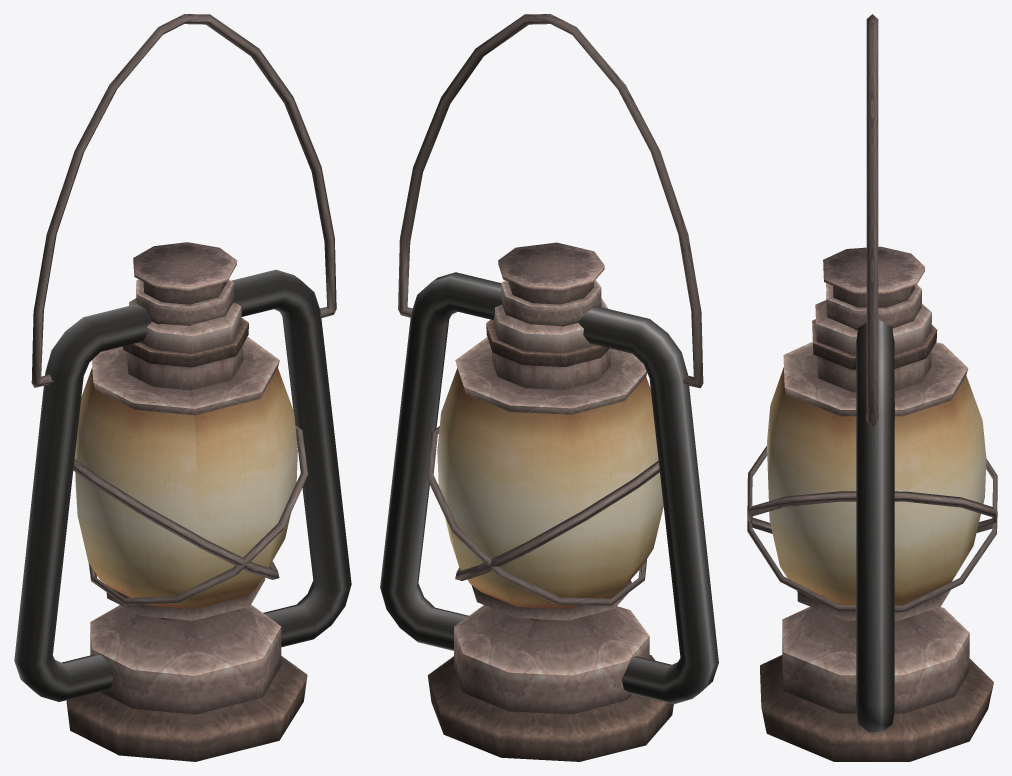
File: Rustic Lantern.FBX
The picture shows the model from 3 angles, left to right: view 1: azimuth 30°, elevation 25°; view 2: azimuth 150°, elevation 25°; view 3: azimuth 270°, elevation 25°; orthographic projection.
Visible parts, largest first — view 1: Rustic Lantern; view 2: Rustic Lantern; view 3: Rustic Lantern.
Part boxes in pixels (left/top/right/bottom): Rustic Lantern: left=14, top=14, right=351, bottom=761; Rustic Lantern: left=380, top=14, right=718, bottom=761; Rustic Lantern: left=747, top=14, right=997, bottom=761.
Bounding box in the file's own units: 4.29 × 2.83 × 8.64.
